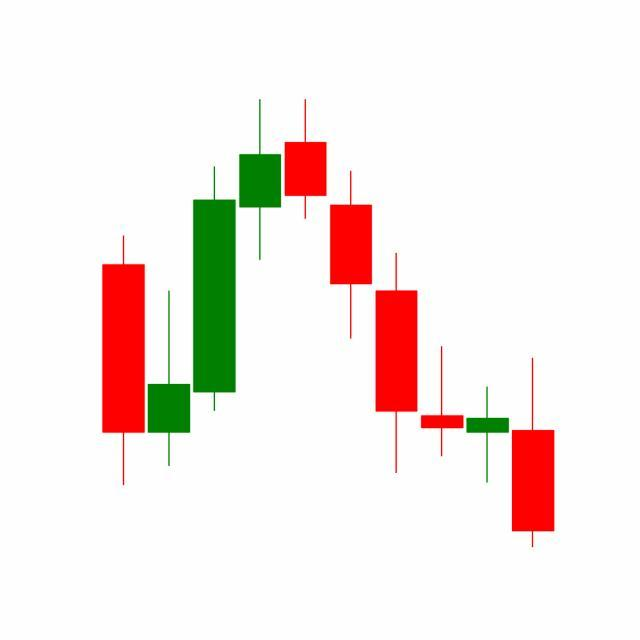Hikkake Pattern: (283, 100, 512, 489)
